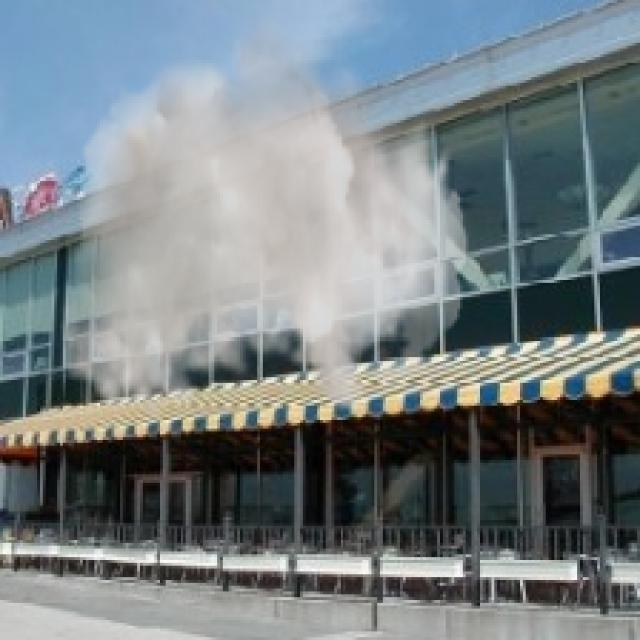smoke: (60, 6, 469, 423)
